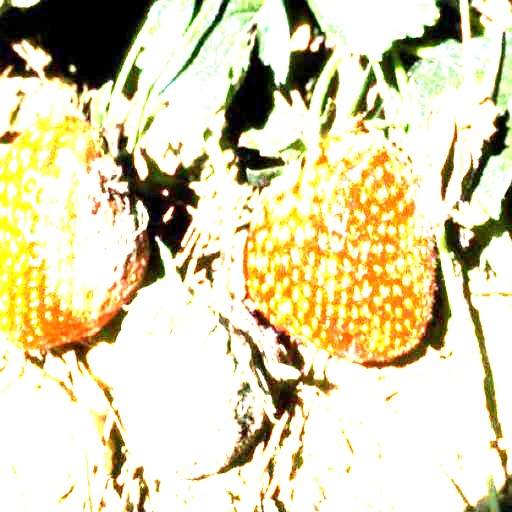Gray Mold: (111, 241, 299, 481), (43, 125, 150, 316)
